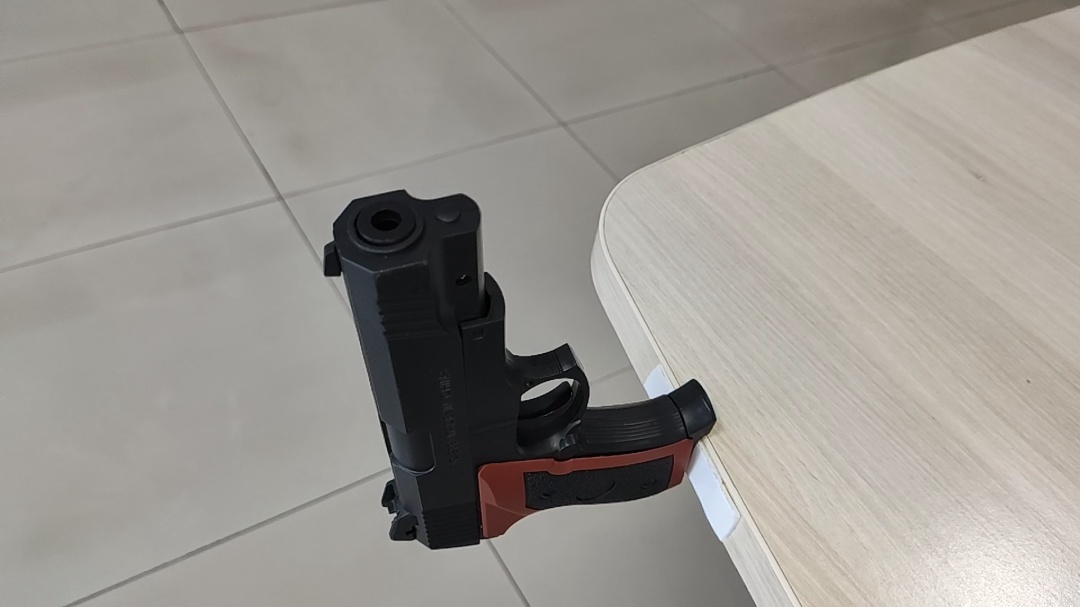gun: (522, 268, 553, 302)
